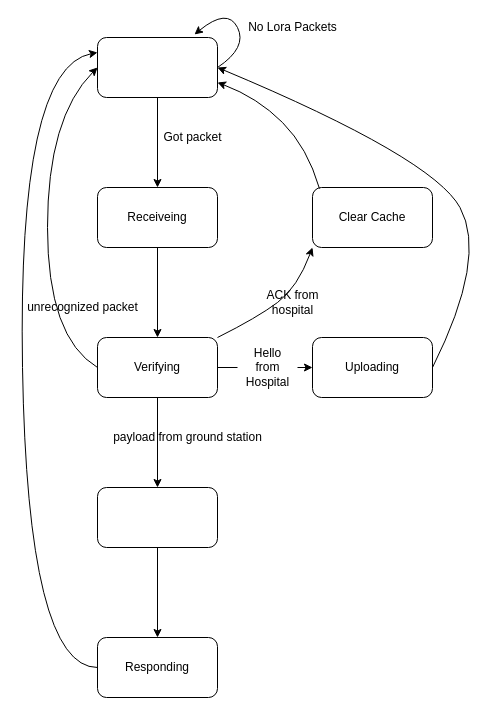
The diagram is 487 pixels wide and 715 high, and some of its shapes have lost their labels. Each missing label, with the centre of its shape:
"Storing" belongs at point 157,517.
"Waiting" belongs at point 157,67.
